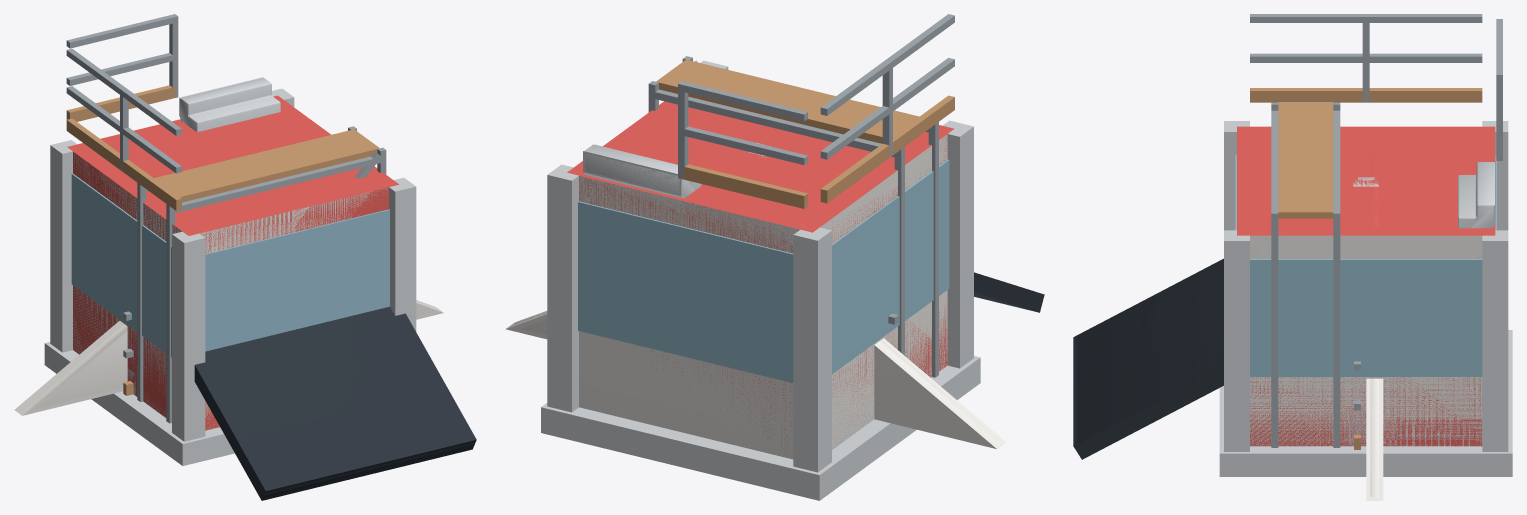
The model's file is BLD_KIT_A_v004.glb.
3 renders of one model, left to right at view 1: azimuth 30°, elevation 25°; view 2: azimuth 150°, elevation 25°; view 3: azimuth 270°, elevation 25°, orthographic. The views are drawn at different scales.
Parts seen in each view (by area): view 1: BLD_KIT_A_FLOOR_PLAIN, BLD_KIT_A_ROOF_SLOPE_LOW, BLD_KIT_A_FLOOR_PLAIN_BRICK, BLD_KIT_A_ROOF_SLOPE, BLD_KIT_A_FLOOR_PLAIN_FRAME, BLD_KIT_A_STAIR, BLD_KIT_A_SCAFFOLD, BLD_KIT_A_ROOF_GABLE, BLD_KIT_A_ROOF_GABLE_LOW; view 2: BLD_KIT_A_FLOOR_PLAIN, BLD_KIT_A_FLOOR_PLAIN_FRAME, BLD_KIT_A_FLOOR_PLAIN_BRICK, BLD_KIT_A_STAIR, BLD_KIT_A_SCAFFOLD, BLD_KIT_A_ROOF_GABLE_LOW, BLD_KIT_A_SLAB, BLD_KIT_A_STAIR_LOW, BLD_KIT_A_ROOF_SLOPE, BLD_KIT_A_ROOF_GABLE; view 3: BLD_KIT_A_FLOOR_PLAIN, BLD_KIT_A_FLOOR_PLAIN_BRICK, BLD_KIT_A_ROOF_SLOPE, BLD_KIT_A_FLOOR_PLAIN_FRAME, BLD_KIT_A_SCAFFOLD, BLD_KIT_A_STAIR, BLD_KIT_A_ROOF_SLOPE_LOW, BLD_KIT_A_SLAB, BLD_KIT_A_ROOF_GABLE_LOW, BLD_KIT_A_ROOF_GABLE, BLD_KIT_A_WALL_BRICK_DOOR_LOW.
Boxes of the visible parts, x1,y1,x2,y2 form: BLD_KIT_A_FLOOR_PLAIN: (44, 153, 389, 465); BLD_KIT_A_ROOF_SLOPE_LOW: (194, 306, 476, 500); BLD_KIT_A_FLOOR_PLAIN_BRICK: (67, 95, 398, 430); BLD_KIT_A_ROOF_SLOPE: (194, 310, 475, 498); BLD_KIT_A_FLOOR_PLAIN_FRAME: (50, 88, 416, 441); BLD_KIT_A_STAIR: (66, 14, 280, 210); BLD_KIT_A_SCAFFOLD: (137, 126, 386, 423); BLD_KIT_A_ROOF_GABLE: (23, 302, 434, 411); BLD_KIT_A_ROOF_GABLE_LOW: (14, 300, 443, 415); BLD_KIT_A_FLOOR_PLAIN: (541, 134, 980, 500); BLD_KIT_A_FLOOR_PLAIN_FRAME: (547, 60, 973, 472); BLD_KIT_A_FLOOR_PLAIN_BRICK: (567, 101, 954, 445); BLD_KIT_A_STAIR: (584, 14, 954, 208); BLD_KIT_A_SCAFFOLD: (648, 56, 938, 377); BLD_KIT_A_ROOF_GABLE_LOW: (505, 311, 1006, 448); BLD_KIT_A_SLAB: (579, 341, 946, 458); BLD_KIT_A_STAIR_LOW: (583, 151, 693, 198); BLD_KIT_A_ROOF_SLOPE: (974, 272, 1043, 311); BLD_KIT_A_ROOF_GABLE: (512, 312, 999, 443); BLD_KIT_A_FLOOR_PLAIN: (1219, 155, 1512, 476); BLD_KIT_A_FLOOR_PLAIN_BRICK: (1237, 126, 1495, 446); BLD_KIT_A_ROOF_SLOPE: (1075, 258, 1223, 457); BLD_KIT_A_FLOOR_PLAIN_FRAME: (1224, 121, 1508, 451); BLD_KIT_A_SCAFFOLD: (1271, 102, 1340, 447); BLD_KIT_A_STAIR: (1250, 14, 1502, 228); BLD_KIT_A_ROOF_SLOPE_LOW: (1073, 263, 1223, 459); BLD_KIT_A_SLAB: (1250, 423, 1482, 446); BLD_KIT_A_ROOF_GABLE_LOW: (1366, 378, 1383, 500); BLD_KIT_A_ROOF_GABLE: (1370, 378, 1378, 497); BLD_KIT_A_WALL_BRICK_DOOR_LOW: (1366, 132, 1383, 179).
Bounding box in the file's own units: 6 × 4.6 × 5.1.
